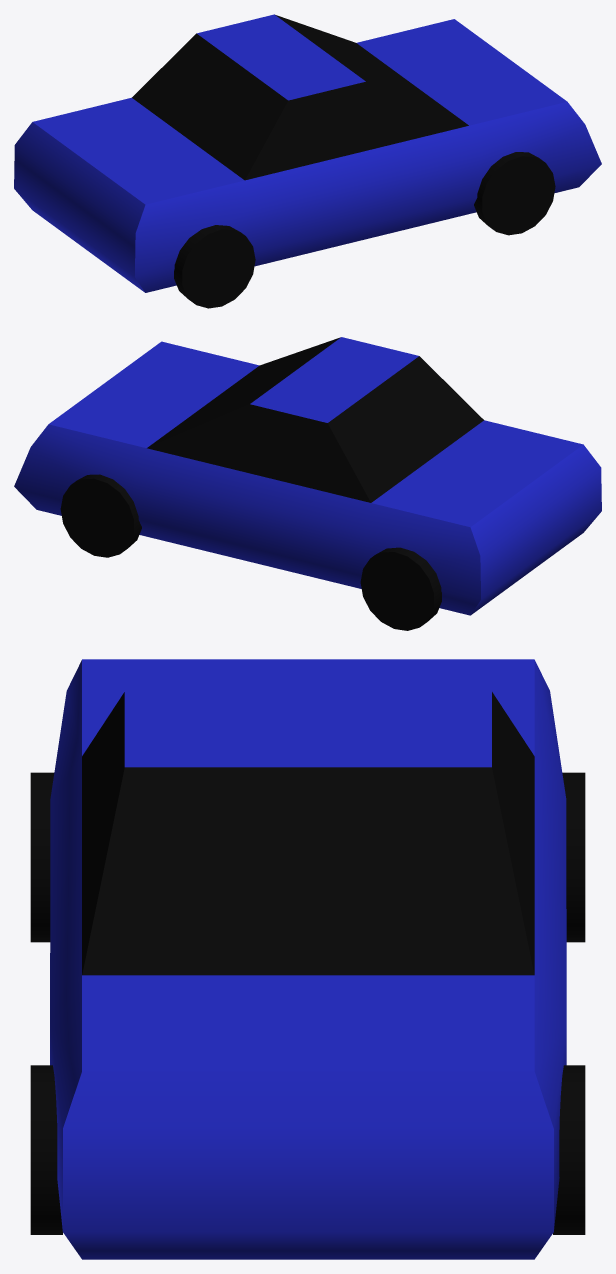
The model's file is PrototypeCar.FBX.
3 views of the same model, one above another, from view 1: azimuth 30°, elevation 25°; view 2: azimuth 150°, elevation 25°; view 3: azimuth 270°, elevation 25° (orthographic). The views are drawn at different scales.
Visible parts, largest first — view 1: Body, Cylinder004, Cylinder003; view 2: Body, Cylinder002, Cylinder001; view 3: Body, Cylinder003, Cylinder001, Cylinder004, Cylinder002.
Boxes of the visible parts, box(x1,y1,x2,y2) form: Body: box(14, 14, 601, 292); Cylinder004: box(174, 225, 255, 308); Cylinder003: box(474, 152, 555, 235); Body: box(14, 337, 601, 615); Cylinder002: box(360, 547, 441, 630); Cylinder001: box(60, 474, 141, 557); Body: box(50, 659, 566, 1259); Cylinder003: box(30, 1065, 62, 1234); Cylinder001: box(553, 1065, 585, 1234); Cylinder004: box(30, 772, 54, 942); Cylinder002: box(562, 772, 585, 942).
Size of the model in its own units: 55.89 by 19.11 by 28.81.
